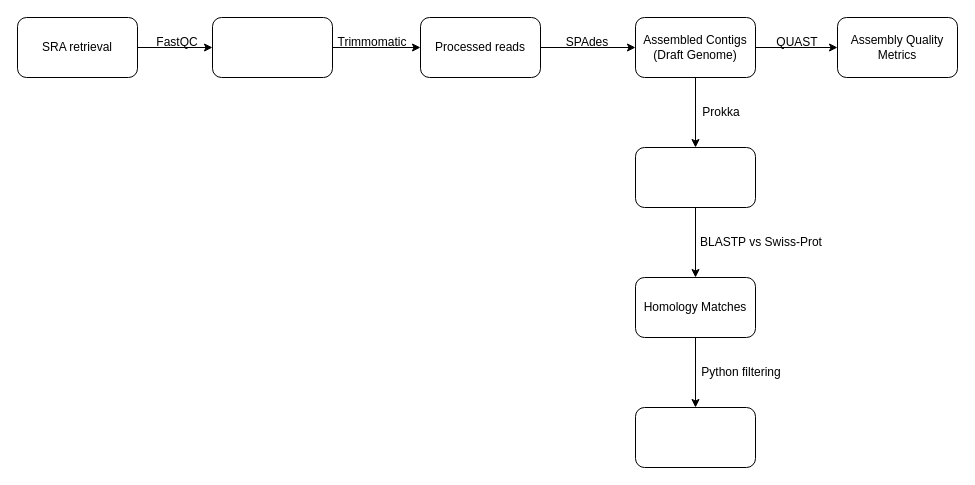
The diagram is 975 pixels wide and 485 high, and some of its shapes have lost their labels. The box of each missing label's shape, as (x1, y1, x2, y2) in pixels:
High-confidence Functional Annotation: (634, 406, 756, 468)
Predicted Genes (CDS, rRNA, tRNA): (634, 146, 756, 208)
Raw reads: (212, 16, 332, 78)
